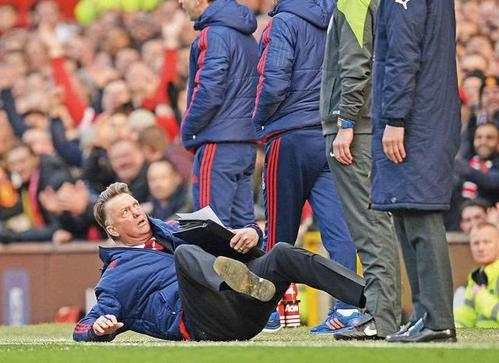10+: (1, 1, 499, 346)
down: (69, 178, 371, 346)
